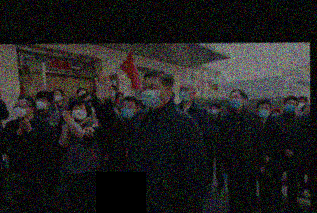with_mask: (141, 81, 168, 110), (178, 84, 193, 103), (71, 104, 87, 120), (119, 102, 135, 118), (14, 102, 29, 119), (228, 93, 243, 110), (285, 99, 297, 114), (35, 97, 48, 110), (258, 106, 270, 119), (52, 91, 63, 102), (209, 106, 220, 116), (78, 89, 88, 98), (298, 98, 305, 110)
